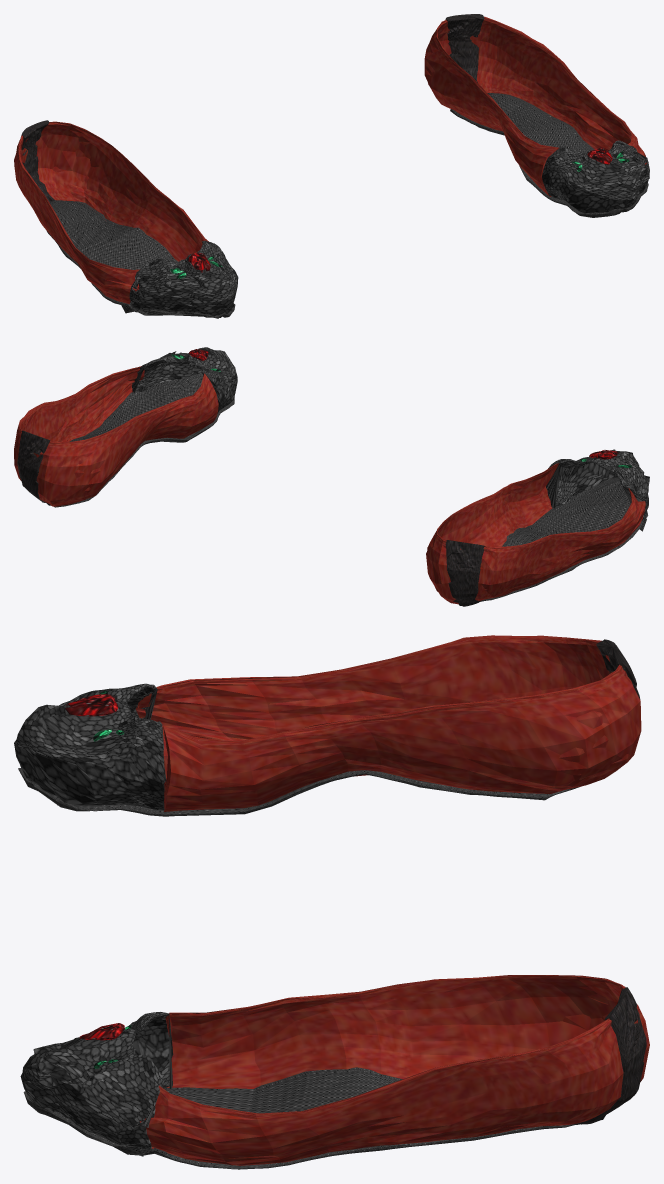
Rendered from mhw_elvs_flatshoe_gemmed1.glb.
3 renders of one model, top to bottom at view 1: azimuth 30°, elevation 25°; view 2: azimuth 150°, elevation 25°; view 3: azimuth 270°, elevation 25°, orthographic. The views are drawn at different scales.
Visible parts, largest first — view 1: mhw_elvs_flatshoe_gemmed1; view 2: mhw_elvs_flatshoe_gemmed1; view 3: mhw_elvs_flatshoe_gemmed1.
Boxes of the visible parts, left/top/right/bottom form: mhw_elvs_flatshoe_gemmed1: left=14, top=14, right=649, bottom=318; mhw_elvs_flatshoe_gemmed1: left=14, top=347, right=649, bottom=606; mhw_elvs_flatshoe_gemmed1: left=14, top=635, right=649, bottom=1169.
Bounding box in the file's own units: 0.5378 × 0.0809 × 0.3227.
Materials: 1 (1 with a texture image).
